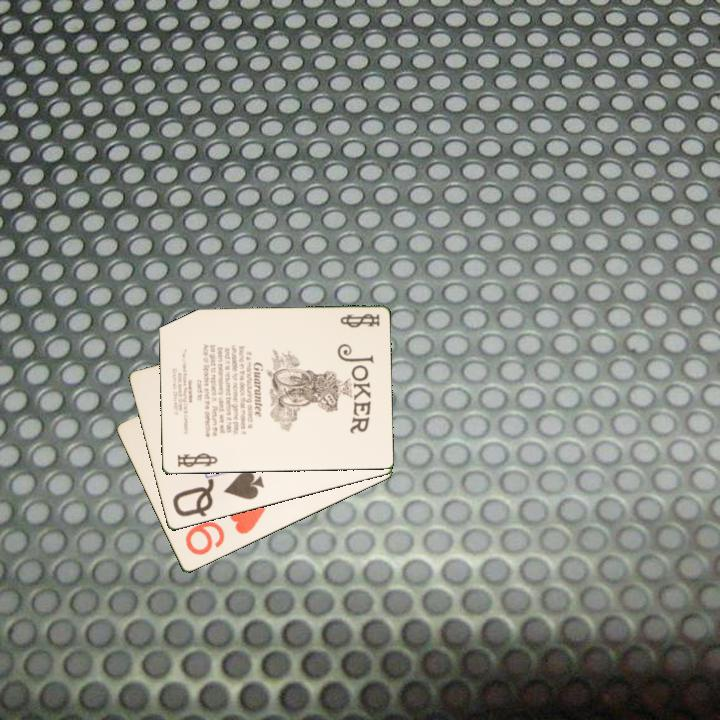9h: (181, 502, 268, 559)
JK: (337, 310, 382, 331), (173, 450, 220, 470)
Qs: (169, 468, 267, 520)
